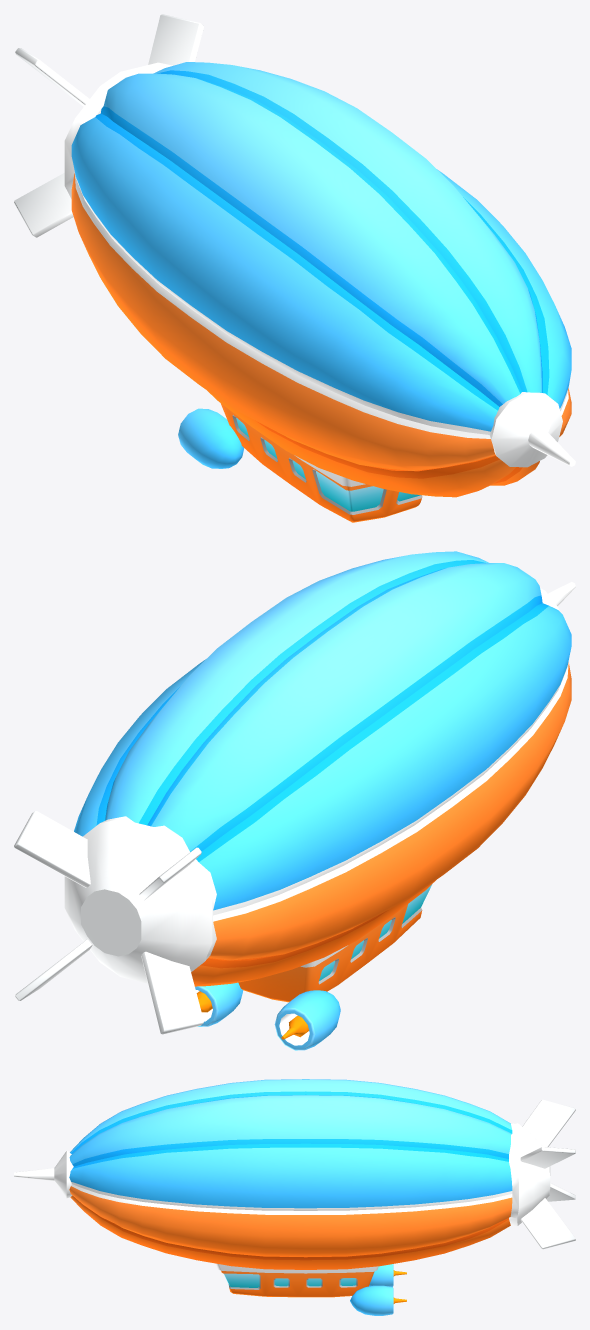
The model's file is Airship_01.glb.
The picture shows the model from 3 angles, top to bottom: view 1: azimuth 30°, elevation 25°; view 2: azimuth 150°, elevation 25°; view 3: azimuth 270°, elevation 25°; orthographic projection. The views are drawn at different scales.
Visible parts, largest first — view 1: Airship_01; view 2: Airship_01; view 3: Airship_01.
Boxes of the visible parts, x1,y1,x2,y2 form: Airship_01: (14, 14, 575, 522); Airship_01: (14, 551, 575, 1050); Airship_01: (14, 1079, 575, 1315).
Size of the model in its own units: 10.08 by 12.78 by 30.96.
Materials: 1 (1 with a texture image).
